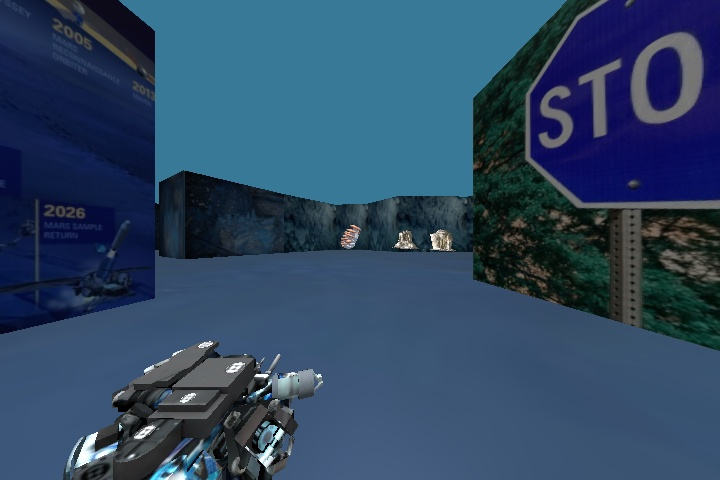formation: (388, 226, 417, 252), (429, 230, 457, 253)
mushrooms: (331, 221, 361, 249)
stop_sign: (516, 1, 718, 234)
